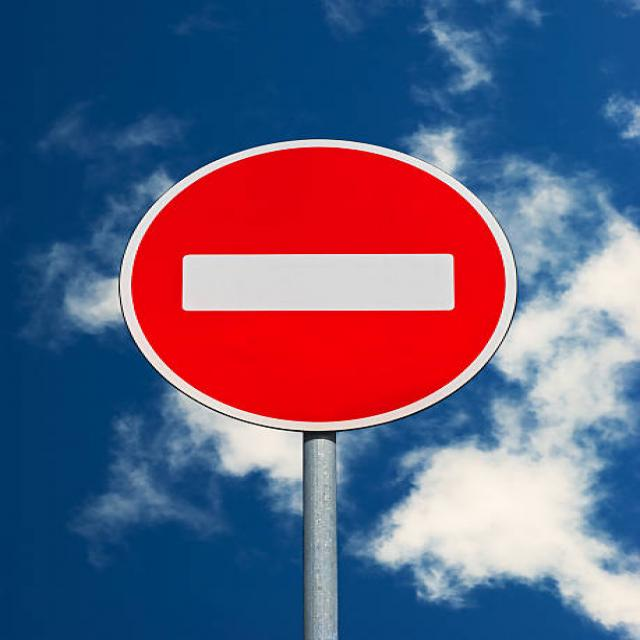do_not_enter: (114, 134, 521, 436)
